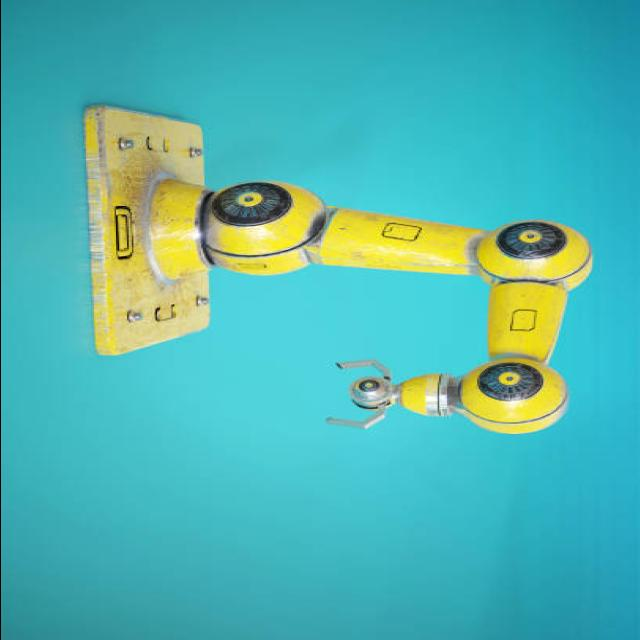Robotic-arm: (145, 175, 602, 433)
